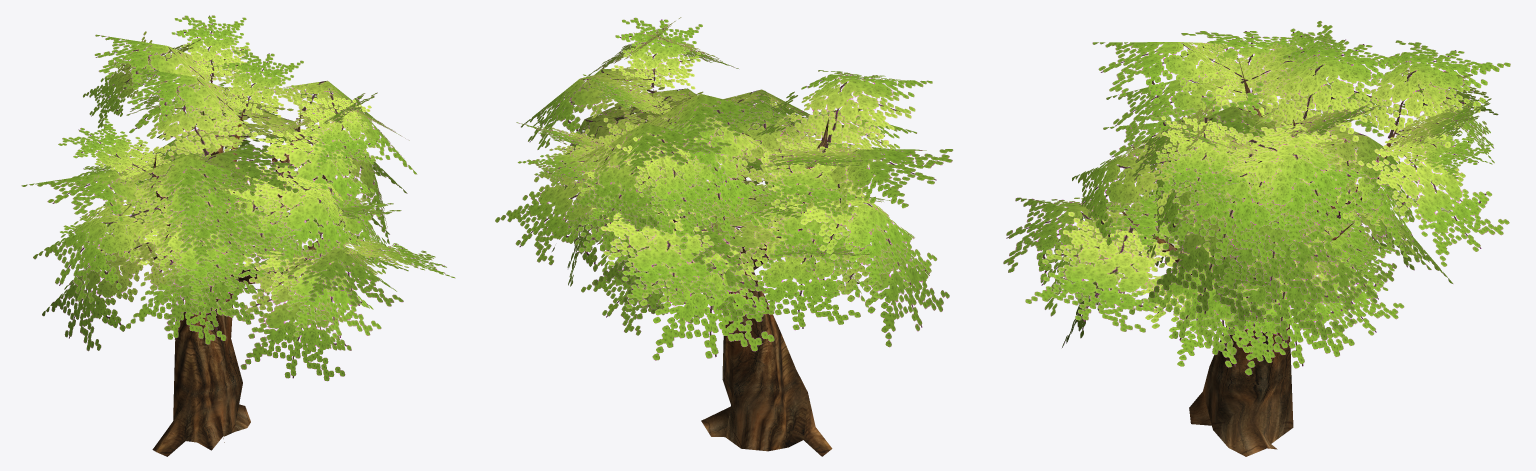
The model's file is n_SWEwtree04.glb.
3 views of the same model, side by side, from view 1: azimuth 30°, elevation 25°; view 2: azimuth 150°, elevation 25°; view 3: azimuth 270°, elevation 25° (orthographic). The views are drawn at different scales.
Parts seen in each view (by area): view 1: n_SWEwtree04; view 2: n_SWEwtree04; view 3: n_SWEwtree04.
Boxes of the visible parts, x1=… form: n_SWEwtree04: x1=21, y1=15, x2=455, y2=456; n_SWEwtree04: x1=495, y1=17, x2=953, y2=456; n_SWEwtree04: x1=1003, y1=21, x2=1510, y2=456.
Size of the model in its own units: 3.82 by 3.32 by 4.08.
3 materials, 3 textured.
